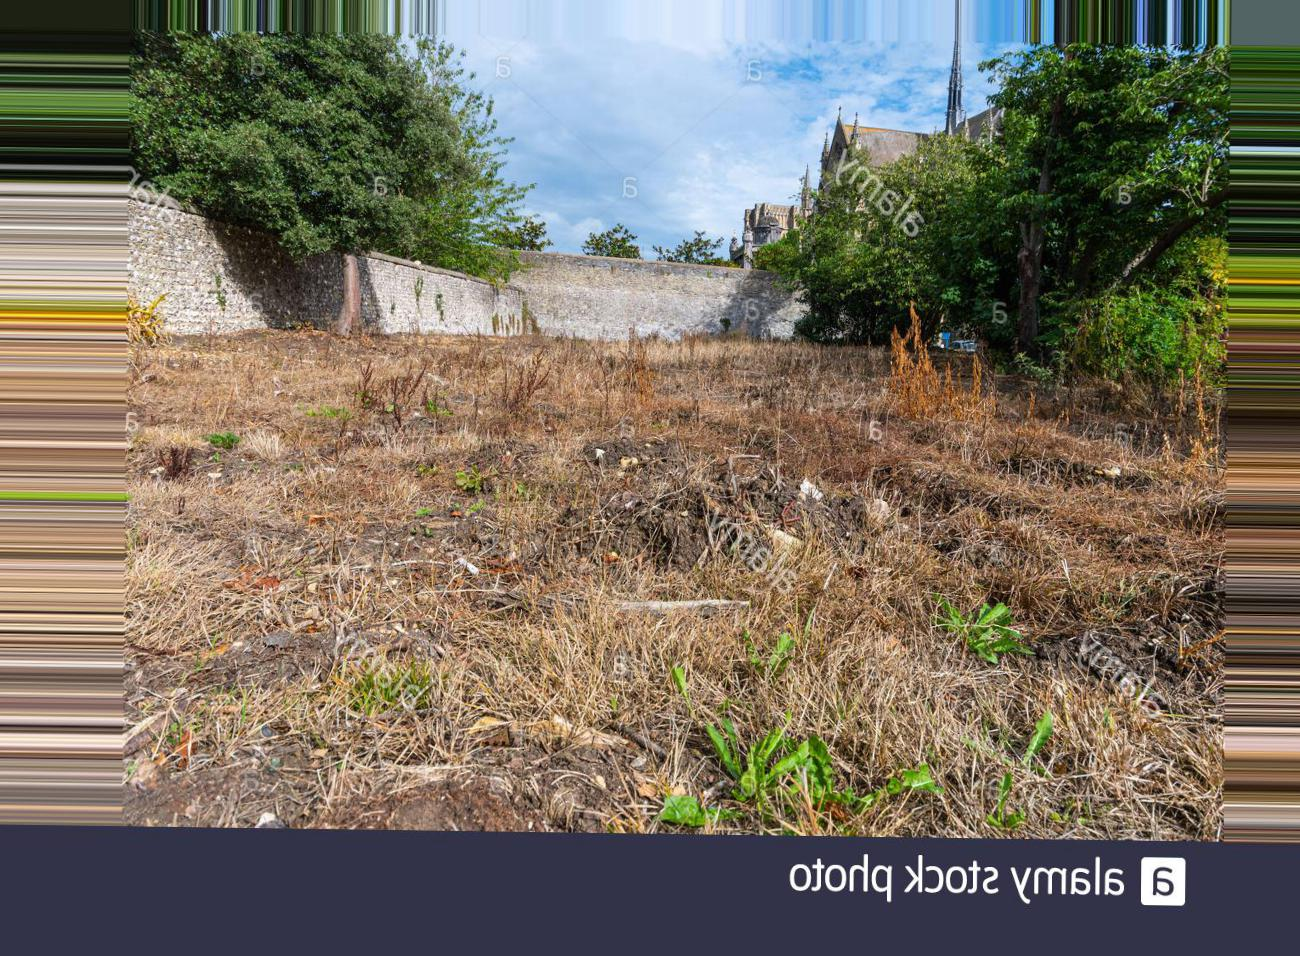patch: (539, 595, 881, 779), (158, 365, 365, 627), (513, 332, 715, 436)
